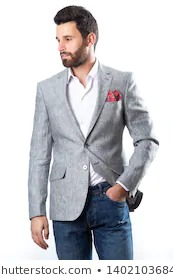F_M_suit jacket: (23, 59, 163, 228)
